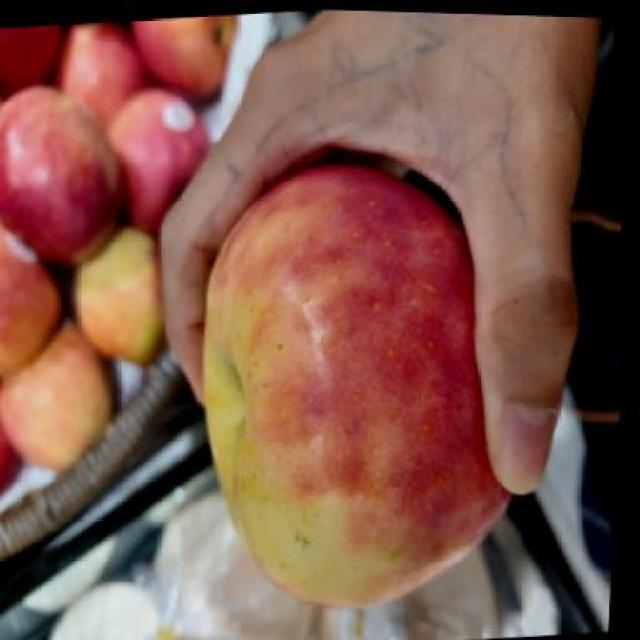Fresh Apple: (185, 168, 569, 610)
